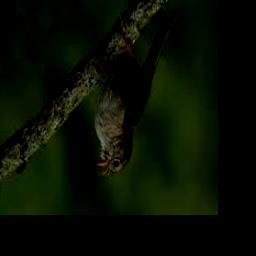Sparrow: (94, 9, 178, 179)
